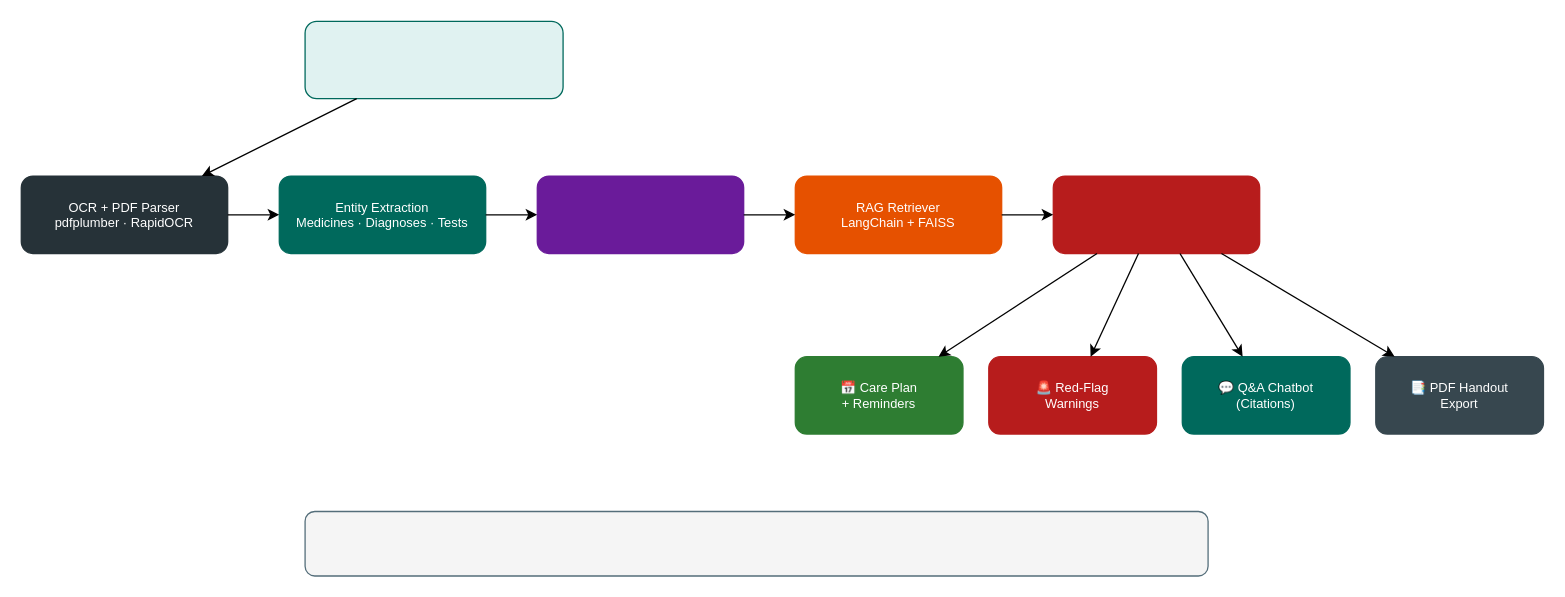
This 1565x597 diagram has some shape labels left out. Each missing label, with the centre of its shape:
"Groq LLM (Llama 3.1) English + Urdu Summary" goes at pixel 640 214.
"Risk + Safety Scan Low/Med/High · Med Safety" goes at pixel 1156 214.
"SQLite DB — Uploads · Chat Logs · Metrics · Reminders" goes at pixel 756 543.
"📄 Patient Upload (PDF / Image / TXT)" goes at pixel 433 59.
